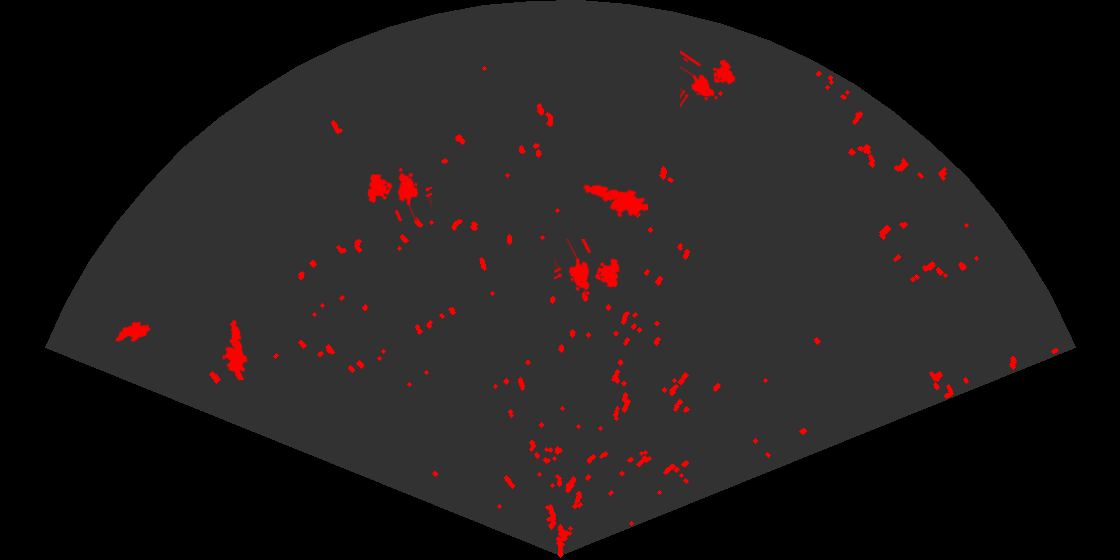AUV: (113, 320, 152, 344)
cage: (554, 239, 621, 297), (366, 166, 432, 221), (680, 49, 737, 109)
frogman: (582, 183, 648, 219), (220, 318, 249, 380)
